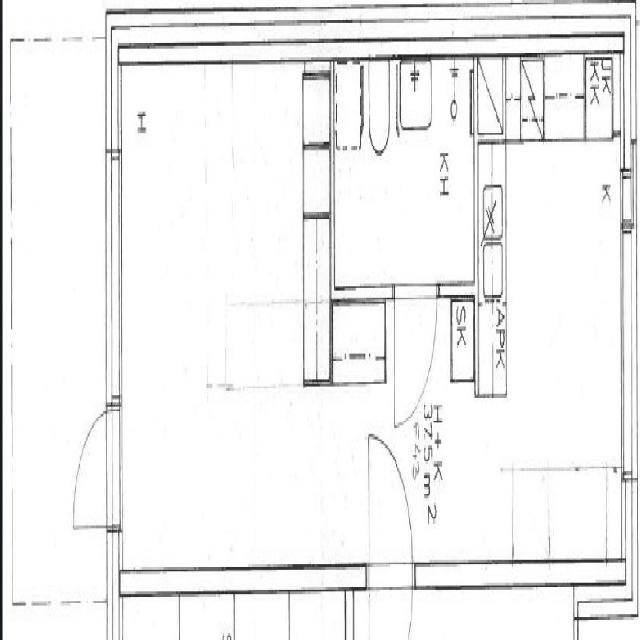door: (368, 434, 412, 587), (66, 411, 121, 527), (394, 282, 436, 422)
